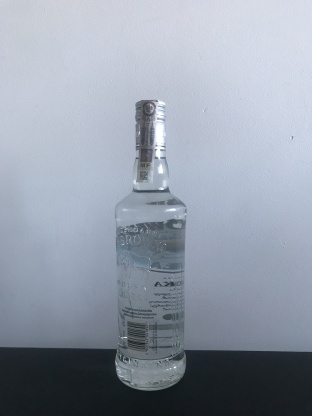nakretka: (132, 96, 168, 154)
